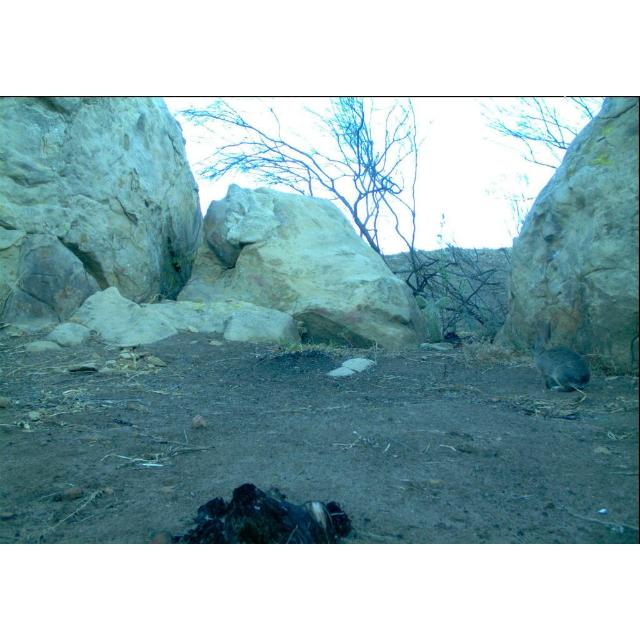animals: (528, 326, 592, 398)
